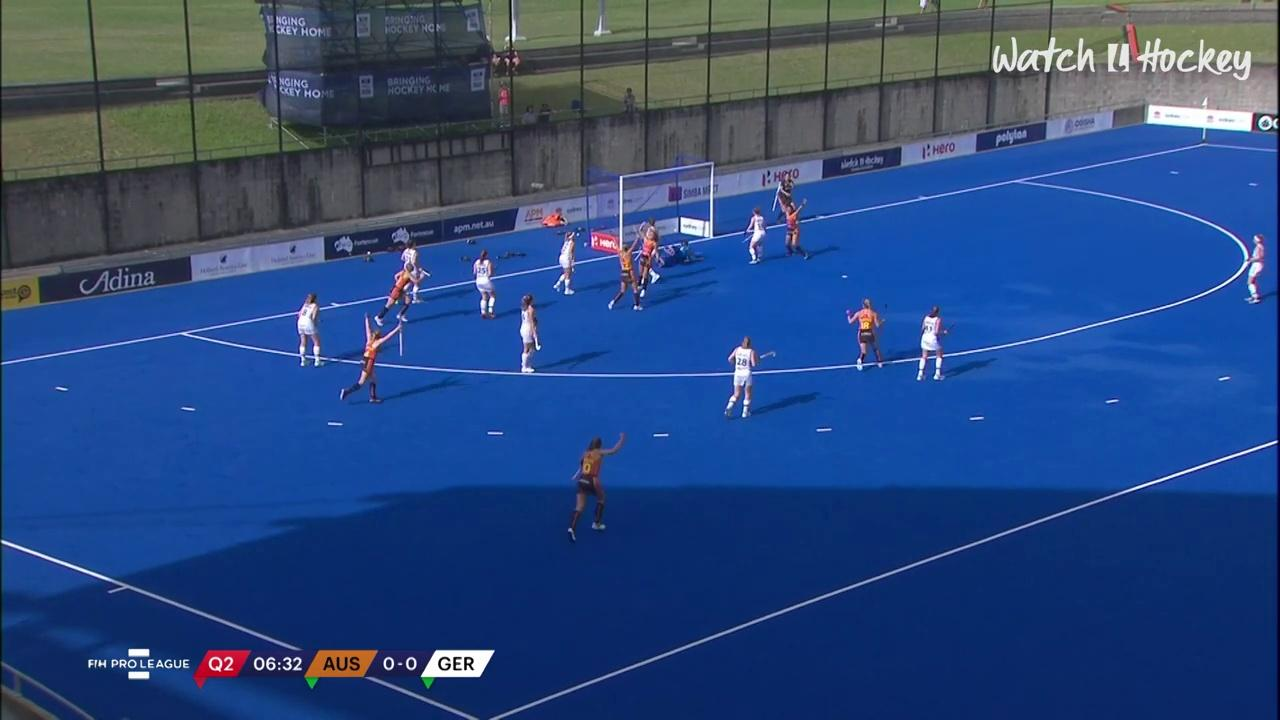ball: (628, 302, 640, 314)
